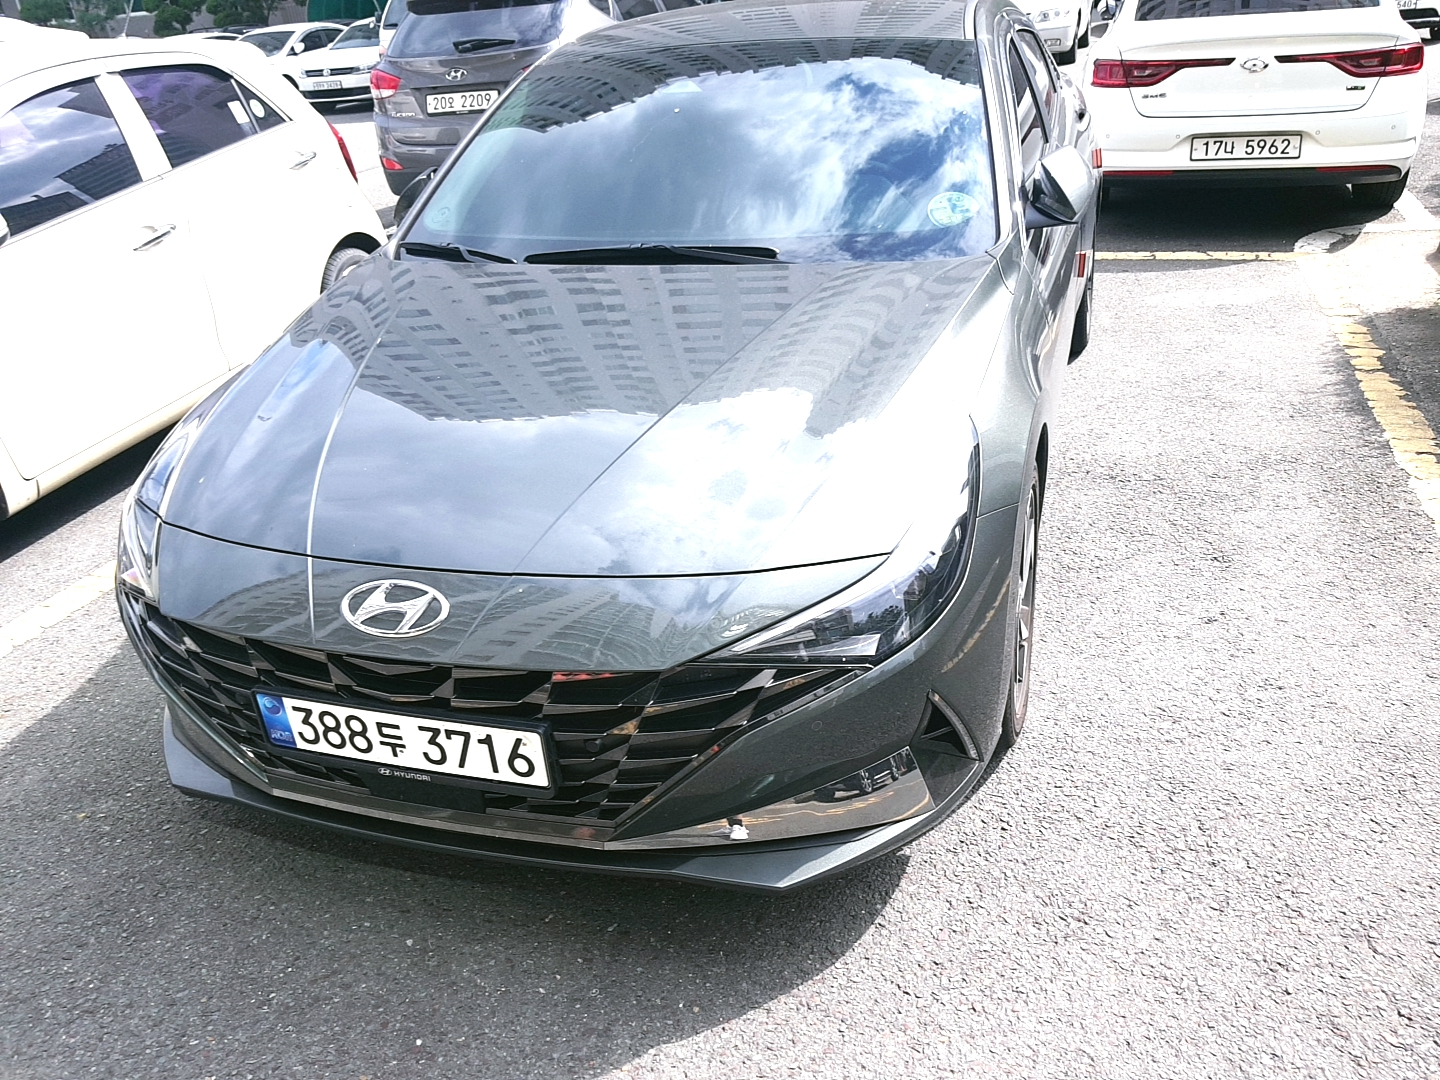disabled_parking: (925, 185, 983, 230)
